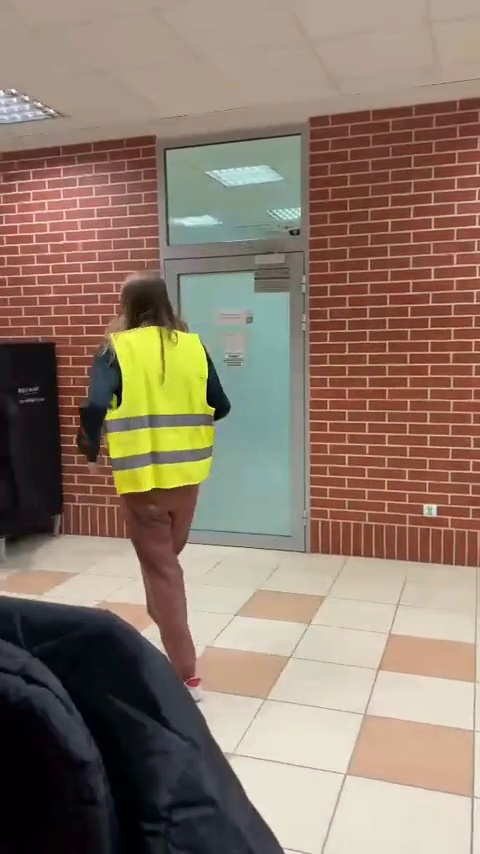vest: (73, 269, 243, 695)
